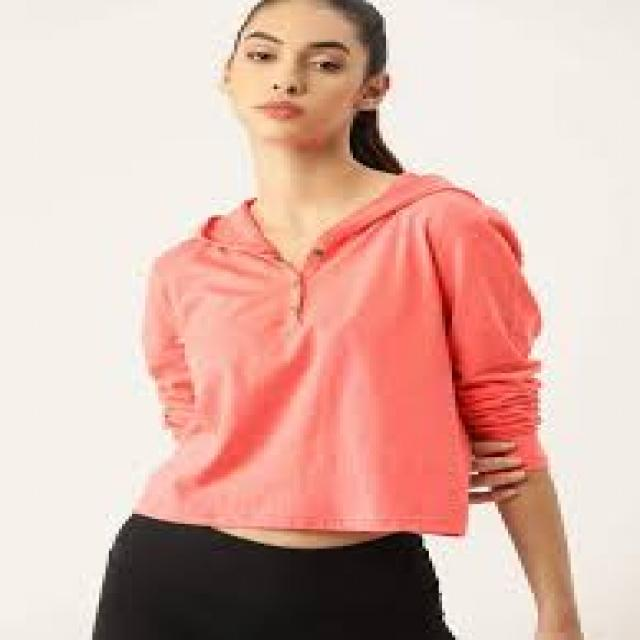plain: (123, 164, 568, 533)
